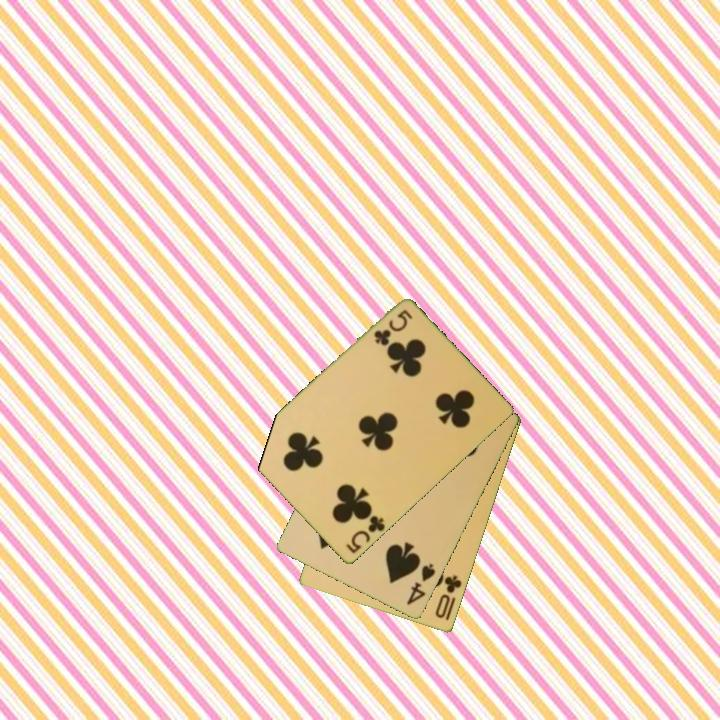10c: (432, 572, 465, 621)
4s: (403, 560, 439, 608)
5c: (342, 512, 388, 557), (370, 306, 415, 349)
